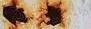Corrosion: (34, 1, 73, 29), (1, 1, 33, 29)
